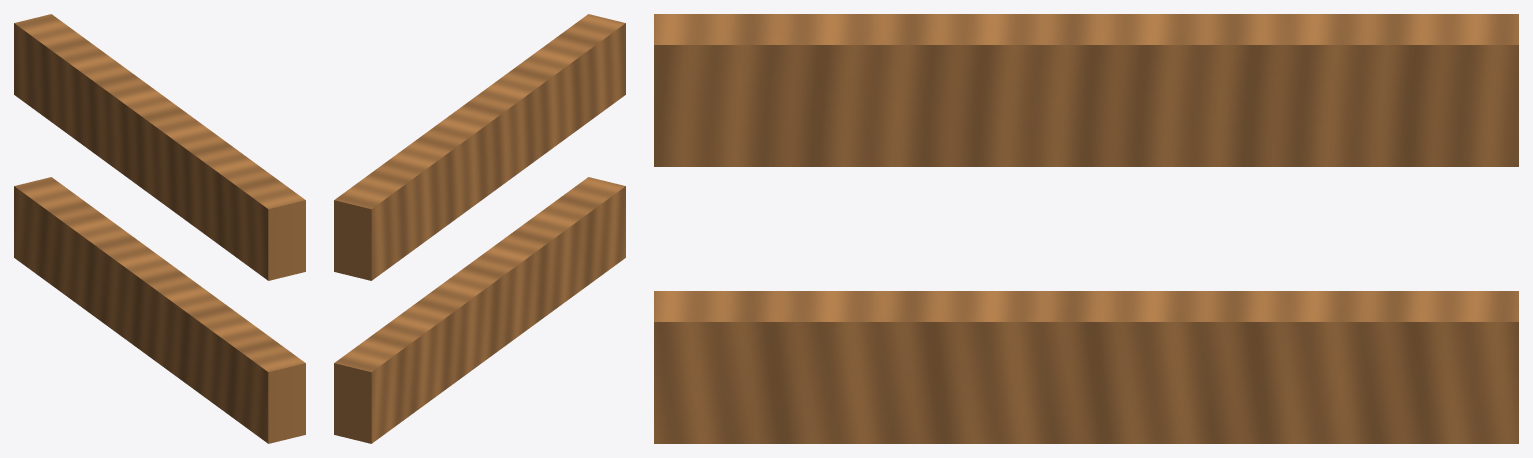
File: Fence_RailDiag.fbx
3 renders of one model, left to right at view 1: azimuth 30°, elevation 25°; view 2: azimuth 150°, elevation 25°; view 3: azimuth 270°, elevation 25°, orthographic. The views are drawn at different scales.
Visible parts, largest first — view 1: Fence_RailDiag; view 2: Fence_RailDiag; view 3: Fence_RailDiag.
Part boxes in pixels (x1=…): Fence_RailDiag: x1=14, y1=14, x2=305, y2=443; Fence_RailDiag: x1=334, y1=14, x2=625, y2=443; Fence_RailDiag: x1=654, y1=14, x2=1518, y2=443.
Size of the model in its own units: 0.06 by 0.36 by 0.7071.
Materials: 1 (1 with a texture image).
